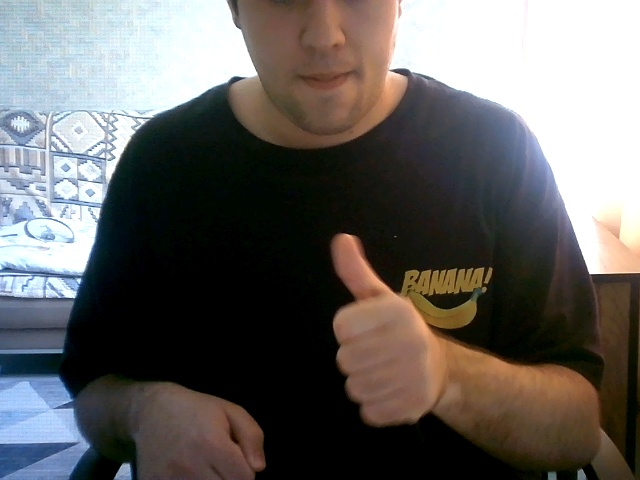good: (304, 221, 459, 435)
